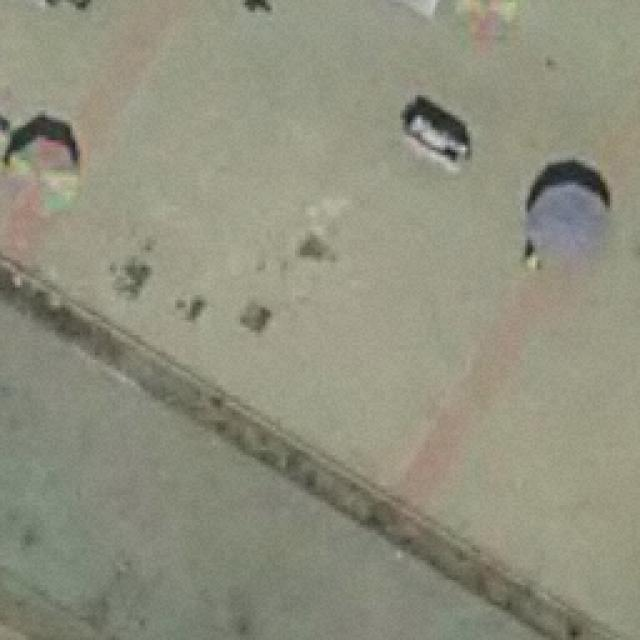vendedor_ambulante: (0, 122, 90, 218), (524, 178, 614, 269)
